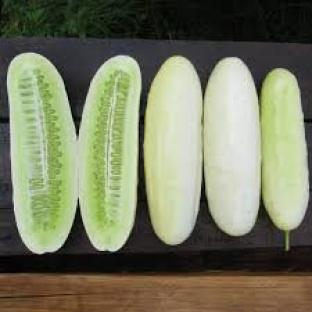Cucumber: (7, 53, 77, 253), (80, 56, 141, 250), (145, 57, 202, 245), (204, 57, 260, 235), (261, 68, 309, 248)
